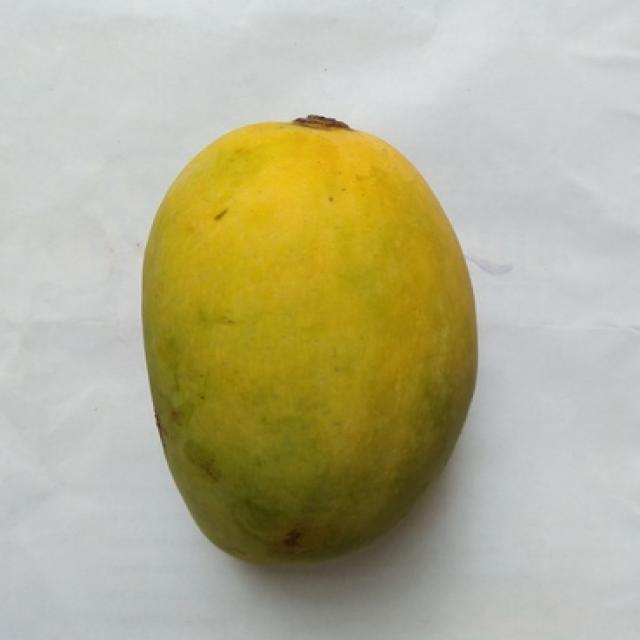Mango: (143, 115, 475, 562)
